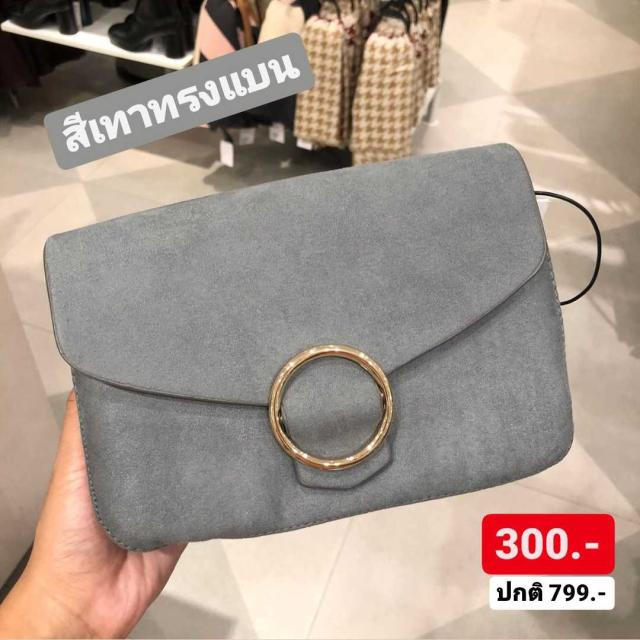Handbag: (38, 144, 576, 552)
